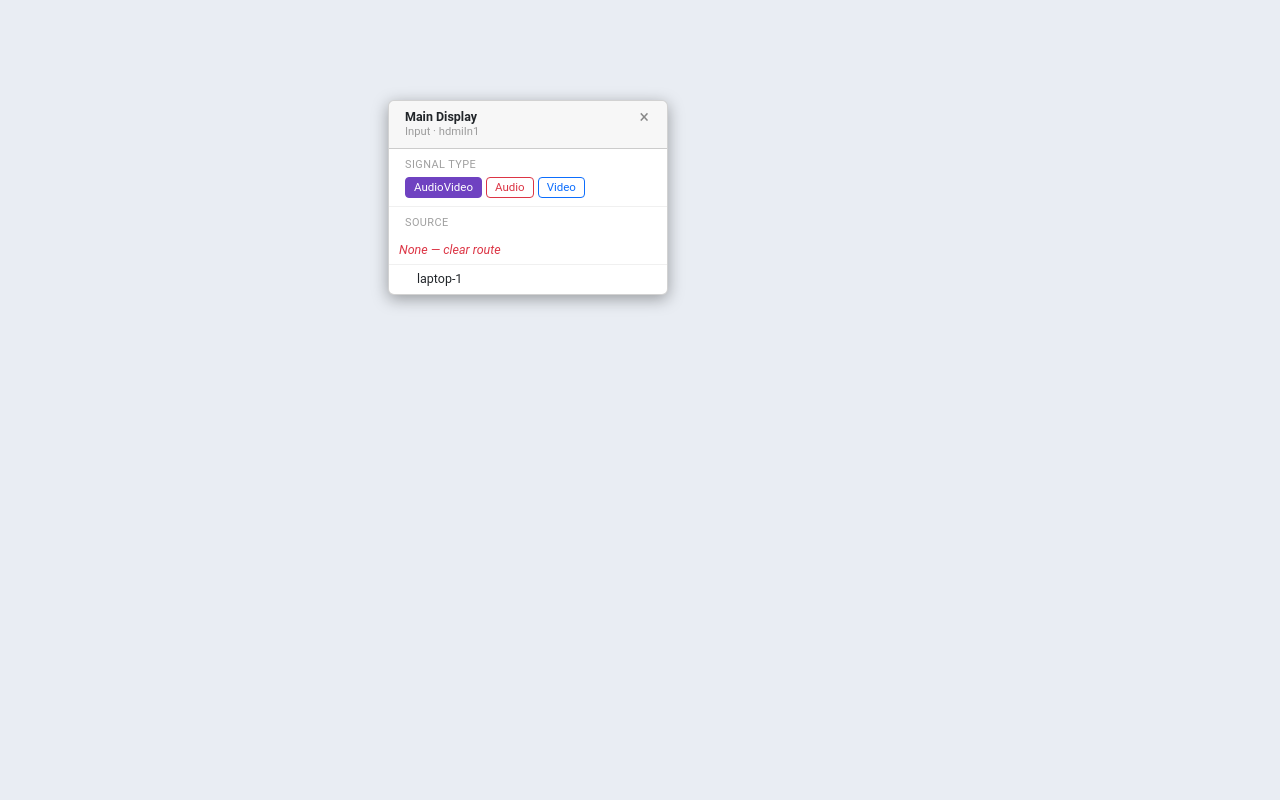
Test case: signal-type step › re-queries candidates when the signal type changes
Expected: the text "laptop-1" is shown, x1=417 y1=271 x2=462 y2=286
Click the button "Audio".
click(510, 188)  # box x1=486 y1=177 x2=534 y2=198
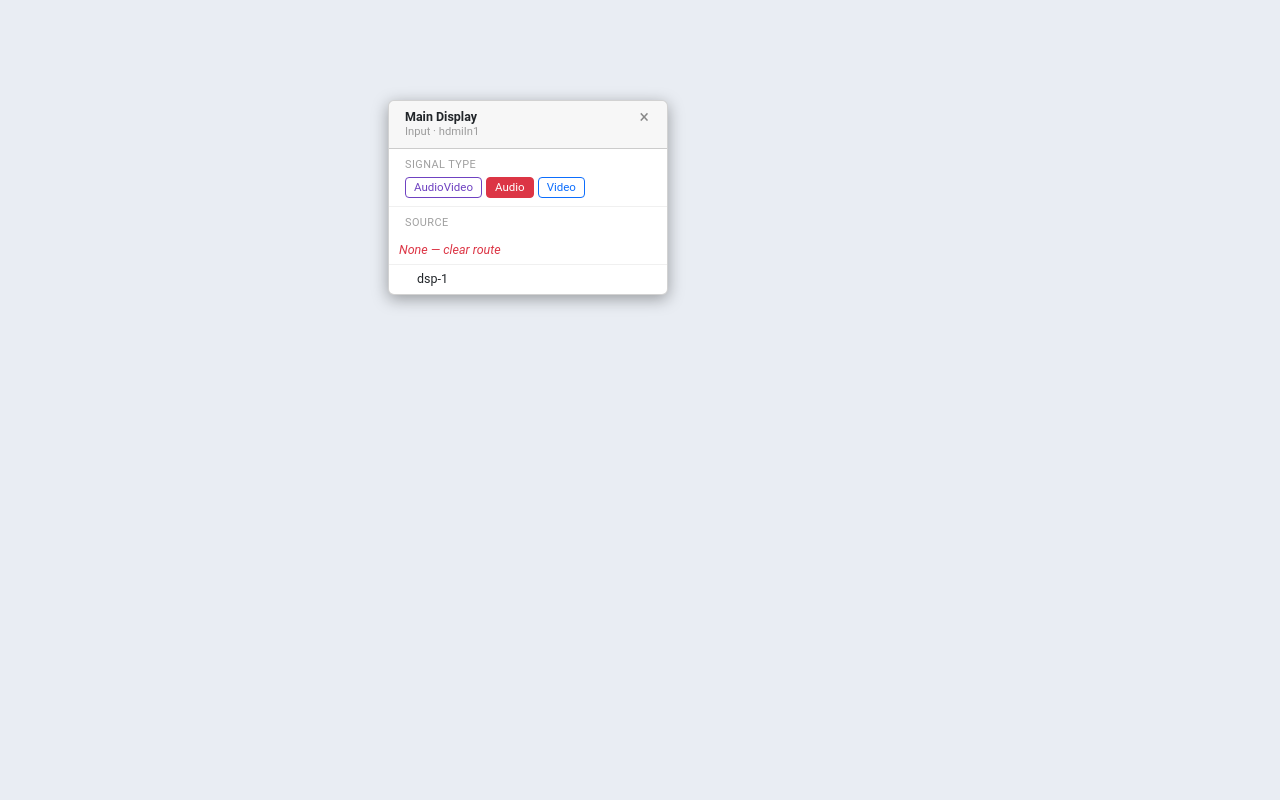
Expected: the text "dsp-1" is shown, x1=417 y1=271 x2=448 y2=286
Expected: the button "laptop-1" is gone
